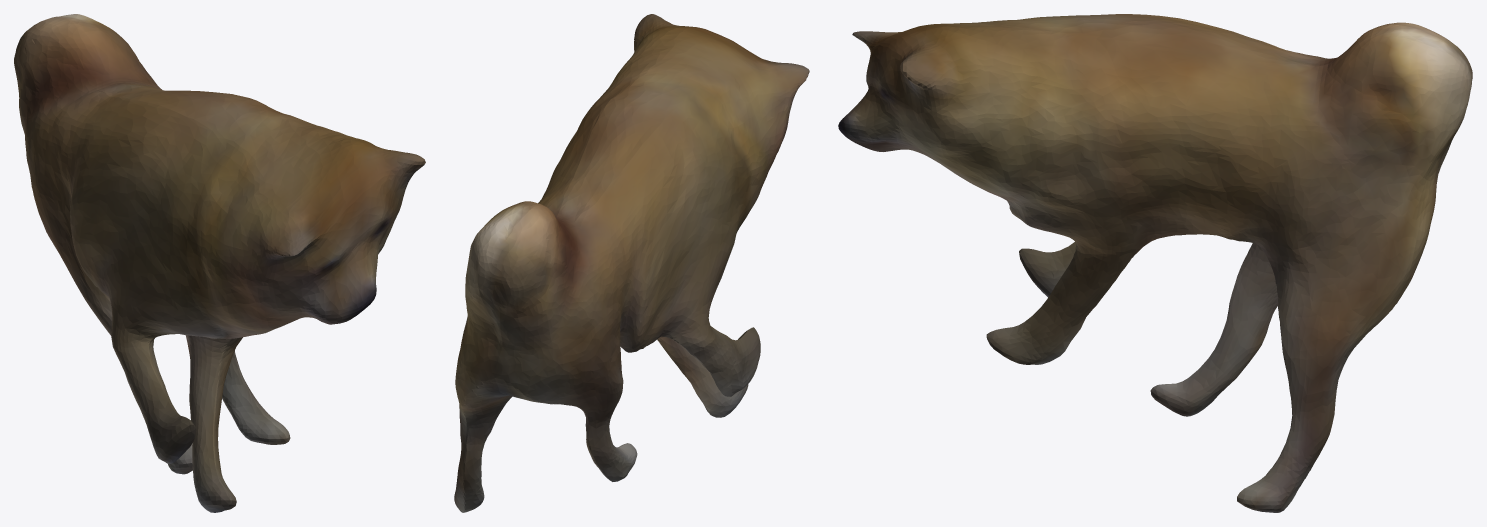
The model's file is shiba-haru-1002-mesh-00015.obj.
3 views of the same model, side by side, from view 1: azimuth 30°, elevation 25°; view 2: azimuth 150°, elevation 25°; view 3: azimuth 270°, elevation 25° (orthographic). The views are drawn at different scales.
Bounding box in the file's own units: 0.0409 × 0.075 × 0.0967.
